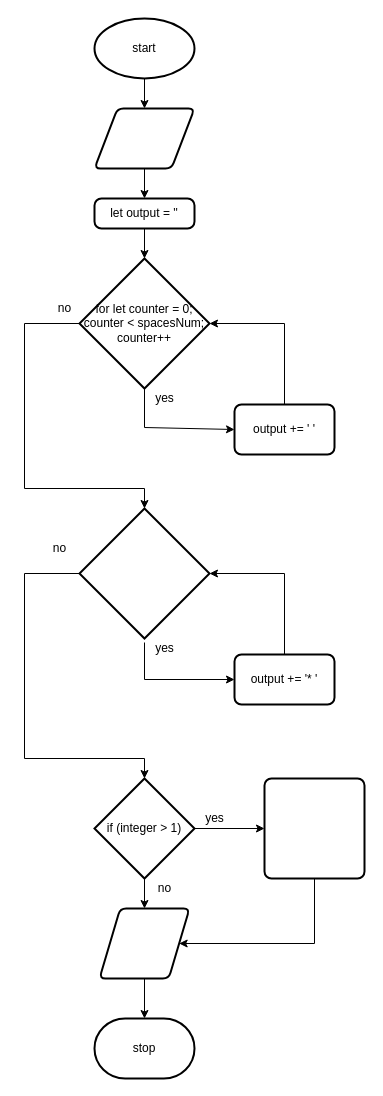
The diagram is 383 pixels wide and 1096 high, and some of its shapes have lost their labels. The centre of each missing label's shape, as x and y in pixels:
"asterisk(integer -1, spacesNum + 1)" belongs at pixel 314 828.
"console.log(output)" belongs at pixel 144 943.
"for let counter1 = 0; counter1 < integer; counter1++" belongs at pixel 144 573.
"get integer, spaceNum" belongs at pixel 144 138.
